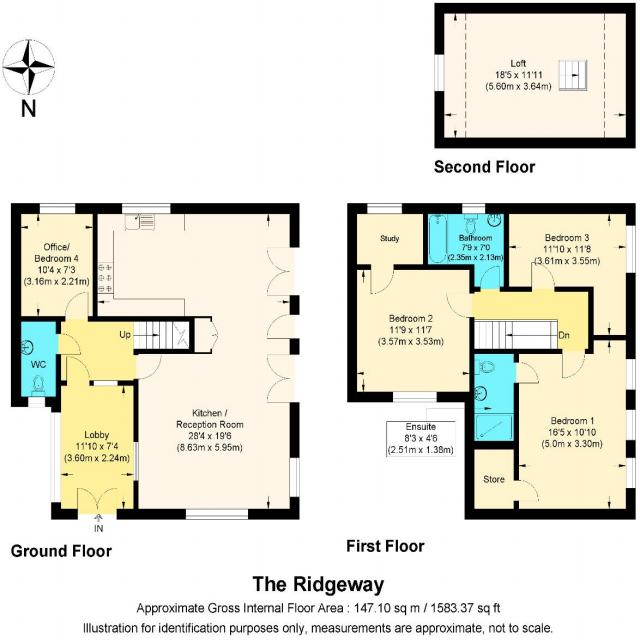DOOR: (63, 291, 90, 322), (561, 348, 587, 380), (369, 264, 395, 296), (65, 355, 91, 386), (133, 354, 164, 380), (530, 262, 556, 292), (513, 360, 540, 385), (514, 477, 540, 502), (479, 264, 502, 292)
ROOM: (93, 203, 300, 521), (513, 335, 637, 520), (504, 203, 636, 340), (347, 264, 474, 403), (10, 203, 98, 322)
WINDOW: (50, 411, 61, 504), (183, 507, 249, 521), (390, 390, 438, 404), (120, 203, 171, 215), (626, 222, 637, 274), (289, 456, 302, 499), (38, 202, 77, 215), (365, 202, 403, 215), (434, 50, 445, 94), (625, 407, 636, 443), (625, 356, 636, 391), (625, 455, 636, 490), (459, 202, 487, 215), (133, 440, 139, 482), (26, 396, 46, 408), (92, 380, 119, 387)
